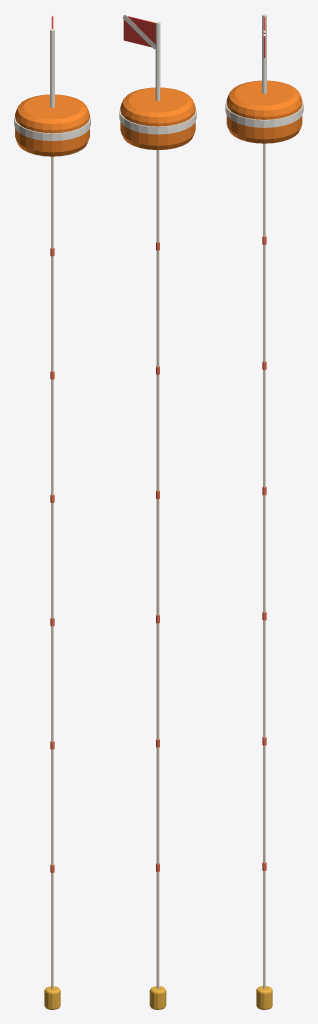
Rendered from buoy.glb.
The picture shows the model from 3 angles, left to right: view 1: azimuth 90°, elevation 25°; view 2: azimuth 150°, elevation 25°; view 3: azimuth 270°, elevation 25°; orthographic projection.
Parts seen in each view (by area): view 1: float, line, band, mast, weight; view 2: float, line, band, flag, mast, weight, diag; view 3: float, line, band, weight, mast.
Boxes of the visible parts, left/top/right/bottom form: float: left=15, top=94, right=89, bottom=156; line: left=51, top=156, right=53, bottom=989; band: left=14, top=115, right=90, bottom=140; mast: left=50, top=29, right=54, bottom=107; weight: left=44, top=986, right=60, bottom=1009; float: left=120, top=87, right=195, bottom=149; line: left=156, top=150, right=159, bottom=988; band: left=119, top=108, right=196, bottom=134; flag: left=123, top=15, right=155, bottom=47; mast: left=155, top=21, right=160, bottom=100; weight: left=149, top=986, right=166, bottom=1009; diag: left=123, top=14, right=155, bottom=49; float: left=226, top=80, right=302, bottom=143; line: left=263, top=143, right=265, bottom=988; band: left=225, top=101, right=303, bottom=127; weight: left=256, top=986, right=272, bottom=1009; mast: left=262, top=14, right=266, bottom=94.
Bounding box in the file's own units: 1.16 × 15.85 × 1.13.
